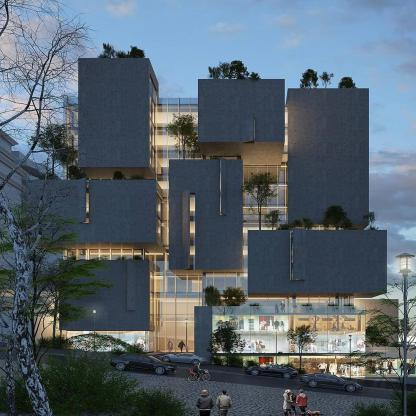Balcony: (25, 180, 163, 199), (194, 306, 366, 314), (248, 230, 387, 239), (59, 260, 155, 271), (169, 159, 243, 170), (366, 345, 416, 354)
Building Outline: (24, 58, 416, 378)
Door: (164, 322, 195, 352)
Facade: (24, 58, 415, 378)
Floor Slabs: (213, 313, 367, 315), (212, 354, 366, 356), (212, 331, 366, 333), (157, 150, 204, 154), (155, 127, 204, 130), (156, 292, 202, 295), (243, 183, 288, 186), (243, 220, 288, 223), (243, 205, 288, 207), (155, 272, 175, 276), (160, 317, 195, 319), (163, 197, 176, 200), (157, 179, 170, 182), (163, 220, 175, 223), (163, 245, 175, 248), (66, 127, 78, 129), (282, 127, 288, 130), (282, 151, 288, 153), (151, 291, 153, 295)
Glass Wall: (202, 104, 354, 313), (156, 104, 241, 352), (65, 104, 155, 188), (67, 249, 155, 268), (149, 73, 156, 171), (156, 193, 162, 243), (150, 270, 154, 325)
Shop: (212, 315, 366, 354), (212, 356, 366, 378), (67, 331, 155, 353), (366, 359, 416, 375)
Window: (182, 193, 196, 270), (290, 231, 304, 281), (79, 180, 89, 223), (127, 261, 135, 310), (220, 160, 226, 216), (243, 117, 255, 143)
